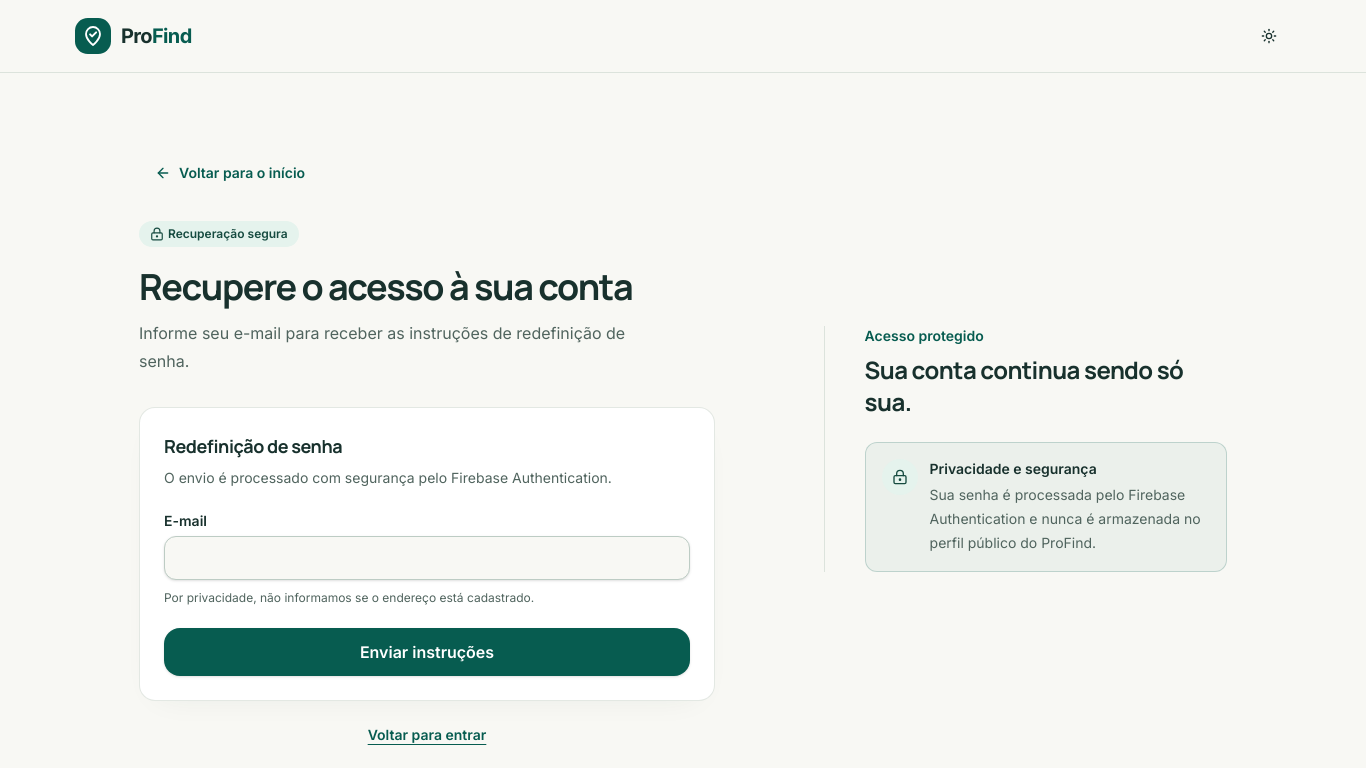
Test: fluxos de autenticação › envia recuperação e apresenta resposta que não enumera contas
Type "ana@example.com" into the field labelled "E-mail". click: point(427, 558)
box: top-left (164, 536), bottom-right (690, 580)
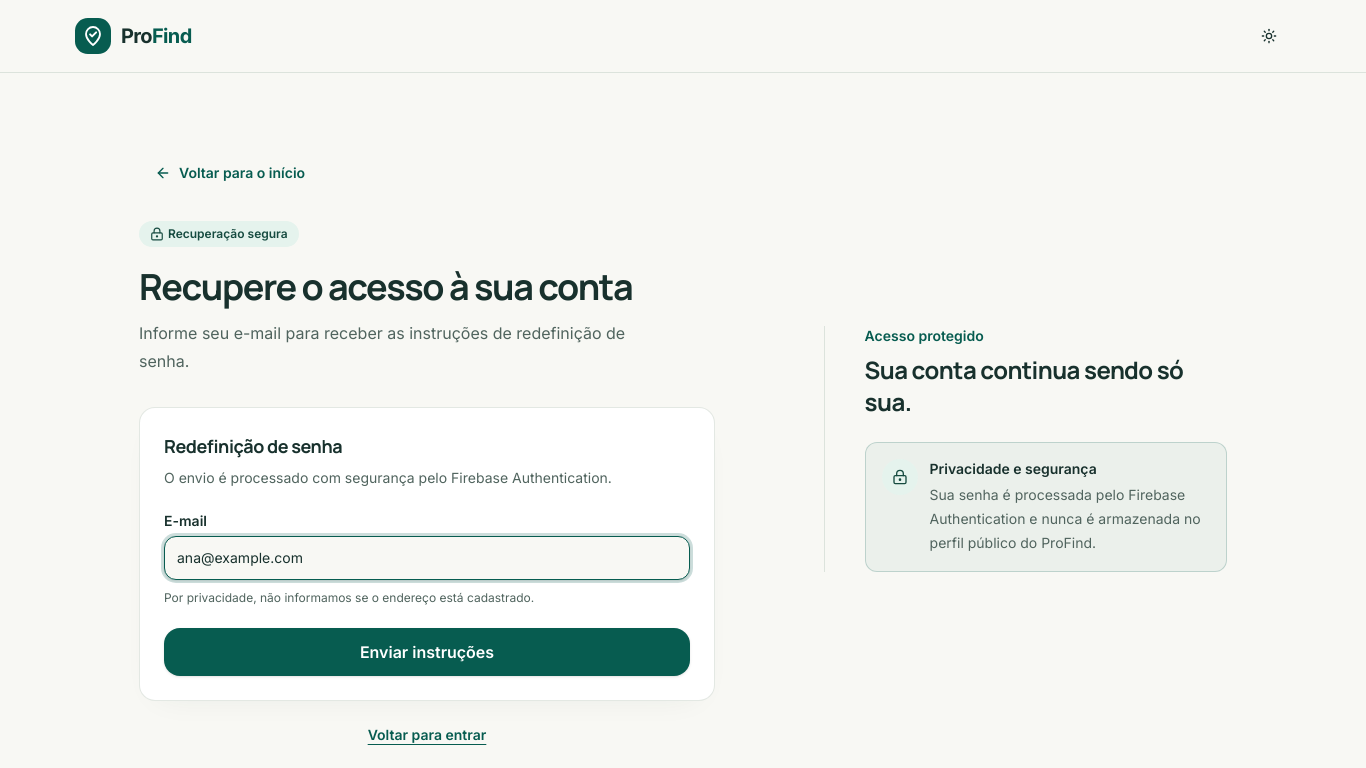
Click the button "Enviar instruções". click: point(427, 652)
box: top-left (164, 628), bottom-right (690, 676)
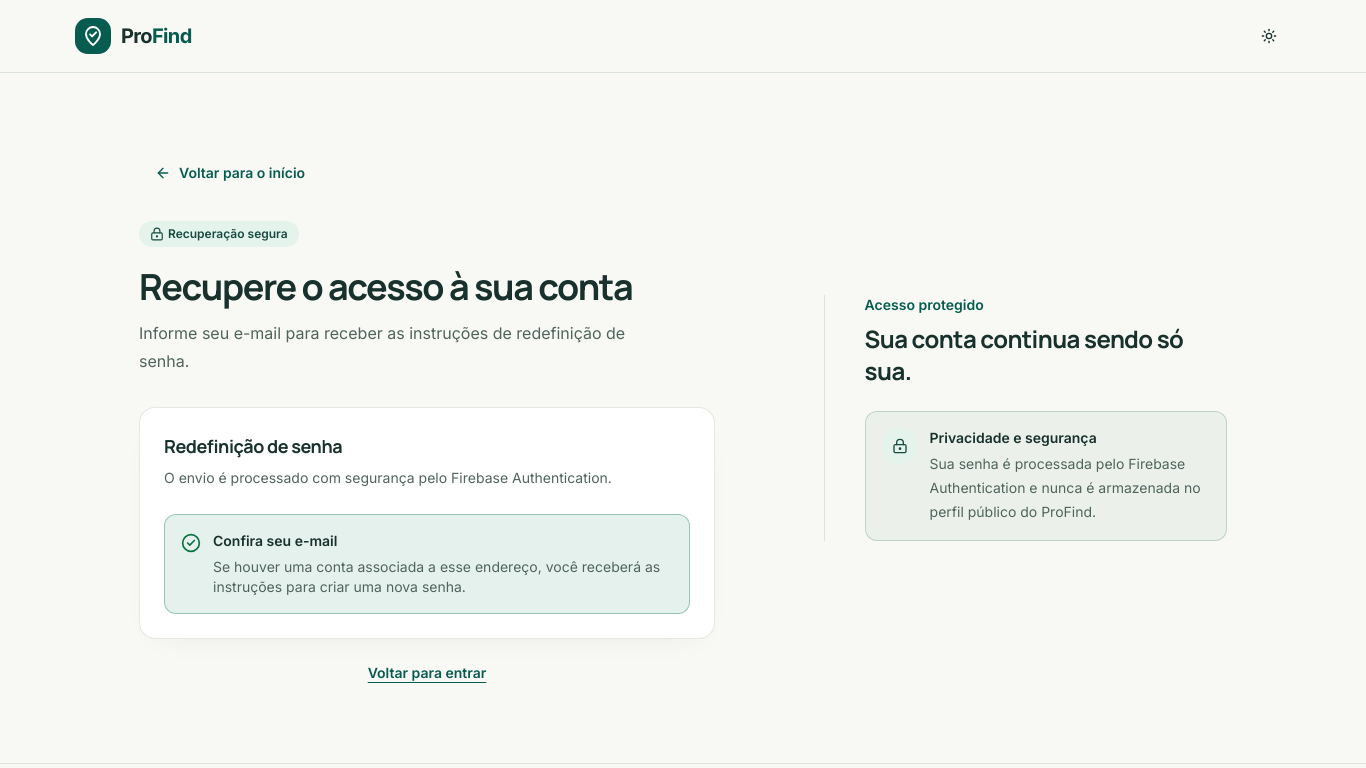
Check: the text "Se houver uma conta associada" is shown, box top-left (213, 558), bottom-right (660, 595)
